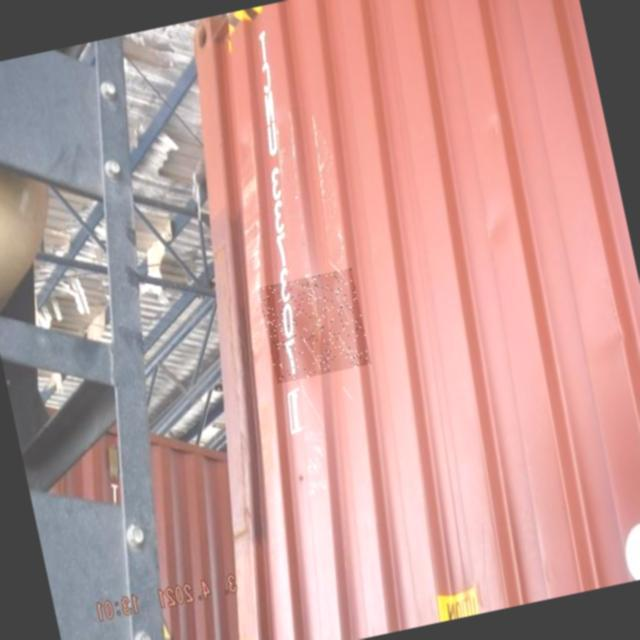Minor-Dent: (257, 268, 371, 384)
